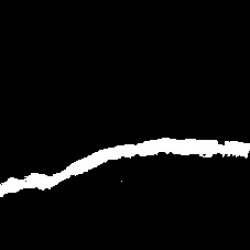crack: (1, 137, 248, 197)
